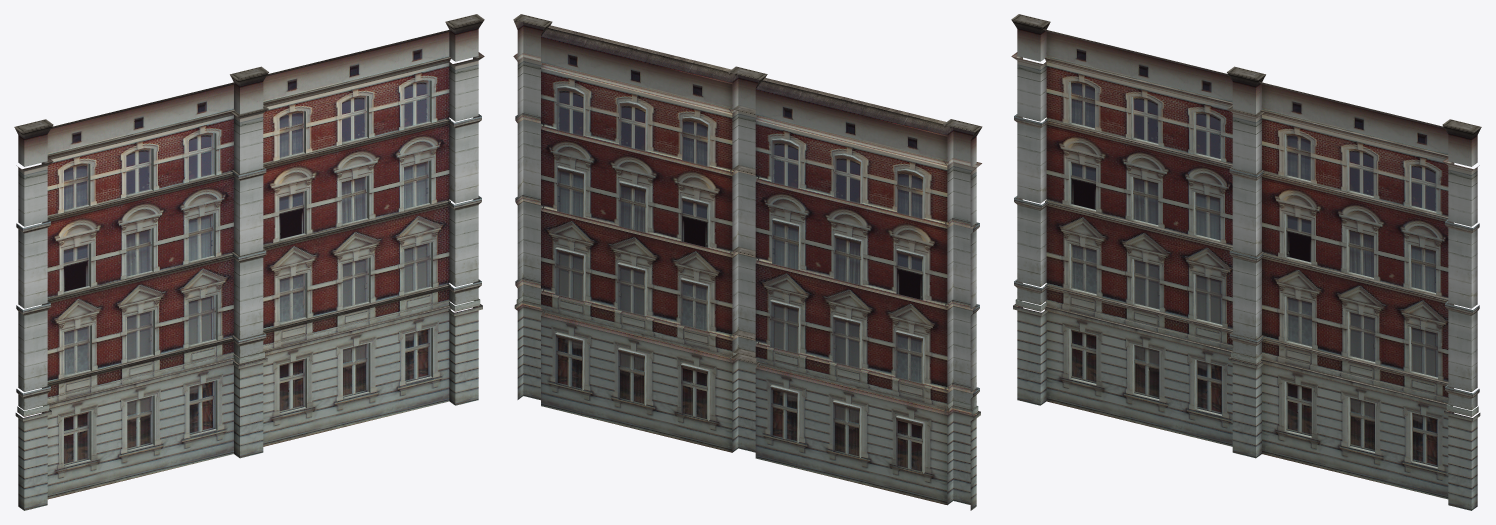
Rendered from Euro_v7_4.FBX.
3 views of the same model, side by side, from view 1: azimuth 30°, elevation 25°; view 2: azimuth 150°, elevation 25°; view 3: azimuth 330°, elevation 25° (orthographic).
Visible parts, largest first — view 1: Euro_v7_4; view 2: Euro_v7_4; view 3: Euro_v7_4.
Boxes of the visible parts, x1,y1,x2,y2 form: Euro_v7_4: (14, 14, 484, 510); Euro_v7_4: (513, 14, 982, 510); Euro_v7_4: (1011, 14, 1481, 510).
Size of the model in its own units: 24.2 by 19.02 by 0.8858.
